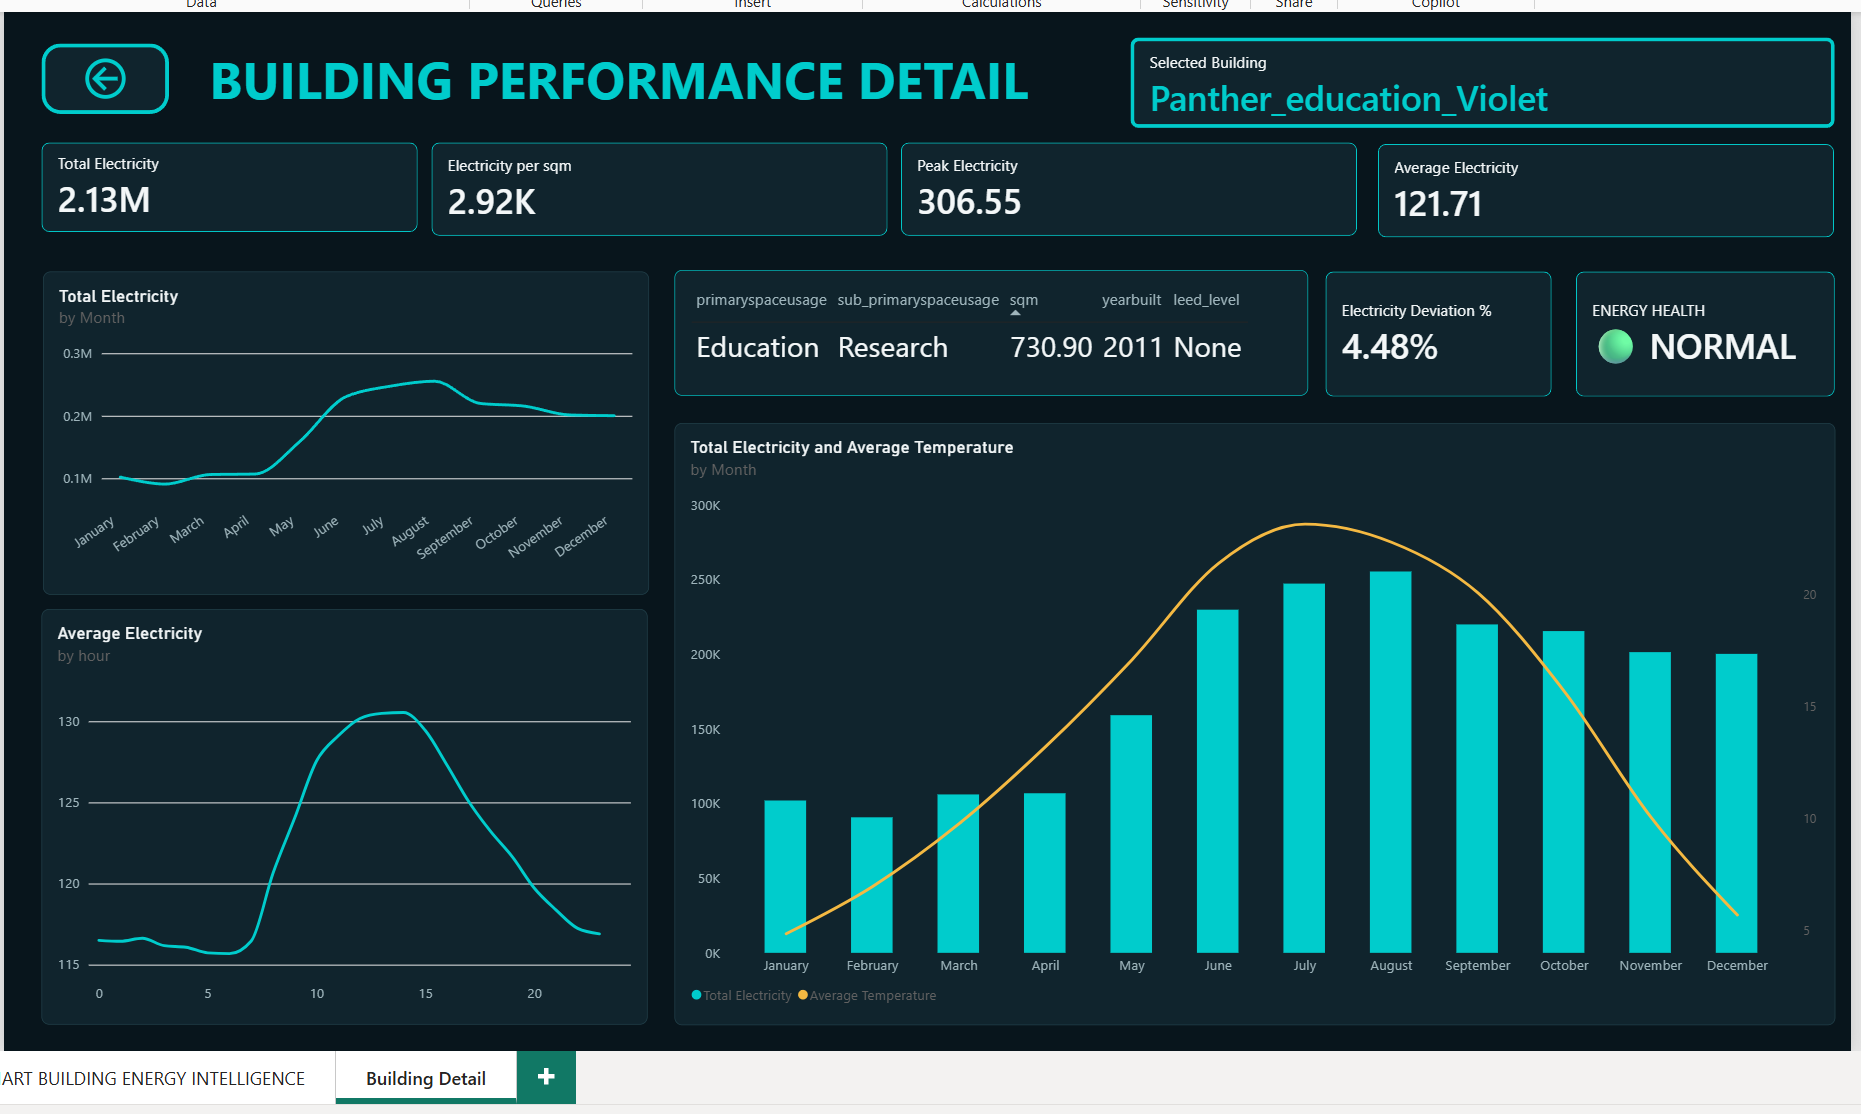

The page's visual inventory and layout, read from the dashboard file:
{"tool":"powerbi","page":{"name":"Building Detail","canvas":[1920,1080],"ordinal":1},"visuals":[{"type":"actionButton","box":[39,32.7,132.5,73.3],"z":0},{"type":"cardVisual","fields":{"Data":["Dim_Building.Selected Building"]},"box":[1170.6,26.6,732.3,94.9],"z":1000},{"type":"cardVisual","fields":{"Data":["Fact_electricity.Total Electricity"]},"box":[39,135.7,391.4,93.6],"z":2000},{"type":"cardVisual","fields":{"Data":["Fact_electricity.Average Electricity"]},"box":[1428.2,137.2,474.5,97.3],"z":3000},{"type":"cardVisual","fields":{"Data":["Fact_electricity.Peak Electricity"]},"box":[932.4,135.7,474.5,97.3],"z":4000},{"type":"cardVisual","fields":{"Data":["Fact_electricity.Electricity per sqm"]},"box":[444.4,135.7,474.5,97.3],"z":5000},{"type":"lineChart","fields":{"Category":["Dim_Date.Date.Variation.Date Hierarchy.Month"],"Y":["Fact_electricity.Total Electricity"]},"box":[39.8,269.4,629.9,335.8],"z":6000},{"type":"lineChart","fields":{"Category":["Fact_electricity.hour"],"Y":["Fact_electricity.Average Electricity"]},"box":[39,620.6,629.9,431.9],"z":7000},{"type":"tableEx","fields":{"Values":["Dim_Building.primaryspaceusage","Dim_Building.sub_primaryspaceusage","Dim_Building.sqm","Dim_Building.yearbuilt","Dim_Building.leed_level"]},"box":[696.3,267.5,658.3,130.9],"z":8000},{"type":"lineClusteredColumnComboChart","fields":{"Category":["Dim_Date.Month"],"Y":["Fact_electricity.Total Electricity"],"Y2":["Fact_weather.Average Temperature"]},"box":[696.3,426.9,1206.6,626.1],"z":9000},{"type":"cardVisual","fields":{"Data":["Fact_electricity.Anomaly Status"]},"box":[1633.5,269.4,269.4,130.9],"z":10000},{"type":"cardVisual","fields":{"Data":["Fact_electricity.Electricity Deviation %"]},"box":[1373.6,269.4,235.3,130.9],"z":11000},{"type":"textbox","box":[214.4,32.3,961.9,115.7],"z":12000}]}

Visuals, with their boxes on the page's 1920x1080 design canvas (x1, y1, x2, y2). These are canvas units, not pixel positions in the 1861x1114 screenshot, which may show the page scaled, cropped or inside an application window:
actionButton: (39,33,172,106)
cardVisual - Dim_Building.Selected Building: (1171,27,1903,122)
cardVisual - Fact_electricity.Total Electricity: (39,136,430,229)
cardVisual - Fact_electricity.Average Electricity: (1428,137,1903,234)
cardVisual - Fact_electricity.Peak Electricity: (932,136,1407,233)
cardVisual - Fact_electricity.Electricity per sqm: (444,136,919,233)
lineChart - Dim_Date.Date.Variation.Date Hierarchy.Month x Fact_electricity.Total Electricity: (40,269,670,605)
lineChart - Fact_electricity.hour x Fact_electricity.Average Electricity: (39,621,669,1052)
tableEx - Dim_Building.primaryspaceusage x Dim_Building.sub_primaryspaceusage: (696,268,1355,398)
lineClusteredColumnComboChart - Dim_Date.Month x Fact_electricity.Total Electricity: (696,427,1903,1053)
cardVisual - Fact_electricity.Anomaly Status: (1634,269,1903,400)
cardVisual - Fact_electricity.Electricity Deviation %: (1374,269,1609,400)
textbox: (214,32,1176,148)
